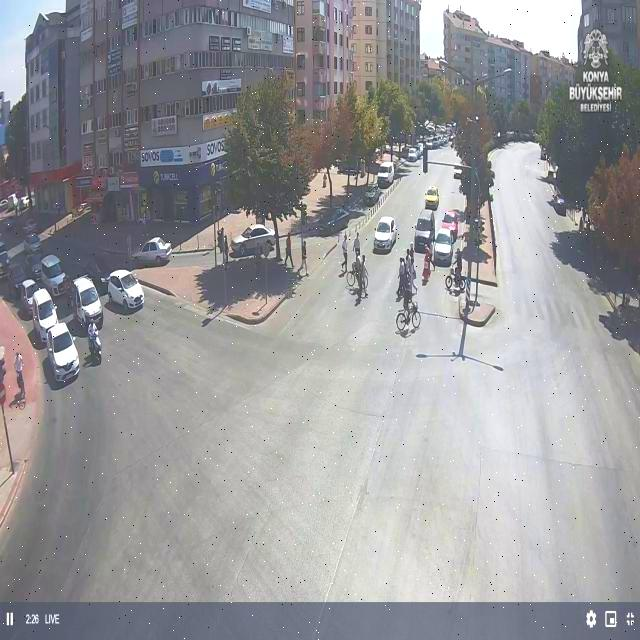Car: (45, 324, 80, 384), (70, 276, 103, 328), (31, 290, 60, 346), (107, 270, 145, 311), (230, 224, 276, 253), (313, 207, 359, 236), (39, 255, 68, 296), (132, 237, 172, 266), (16, 279, 42, 318), (373, 216, 398, 253), (414, 210, 436, 251), (432, 229, 456, 265), (440, 209, 460, 241), (377, 162, 395, 187), (364, 185, 384, 206), (24, 233, 42, 255), (424, 186, 440, 209), (406, 147, 422, 162)
Cycle: (392, 301, 424, 333), (86, 334, 104, 365), (346, 270, 370, 292), (445, 270, 467, 292)
